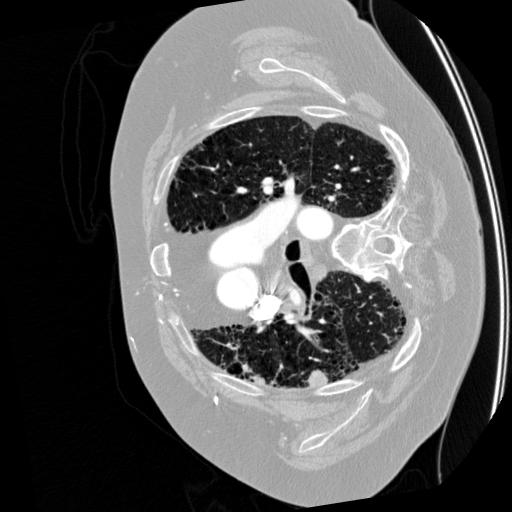nodule: (304, 368, 330, 394)
